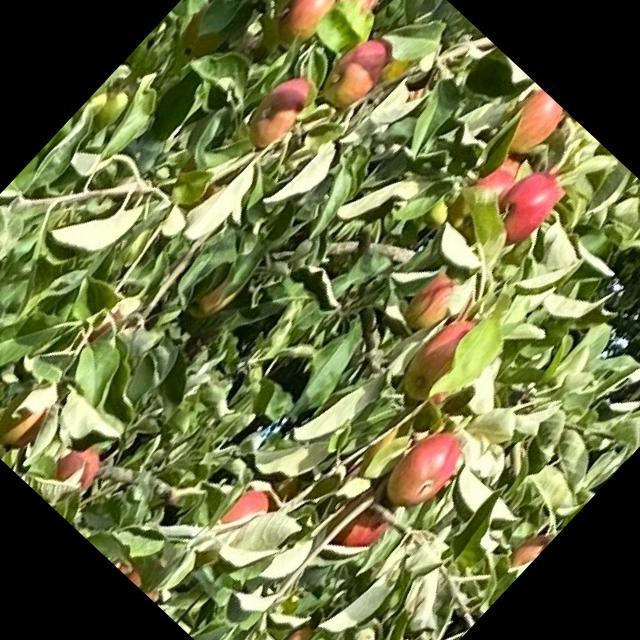100-_ripeness: (376, 420, 472, 518), (478, 162, 568, 255), (238, 66, 324, 156), (316, 31, 398, 116), (317, 488, 395, 566), (494, 86, 568, 161), (268, 0, 350, 49), (48, 436, 110, 498), (218, 483, 278, 543), (0, 390, 53, 457), (474, 151, 526, 204), (505, 526, 551, 574), (335, 0, 389, 22), (268, 625, 328, 639)
